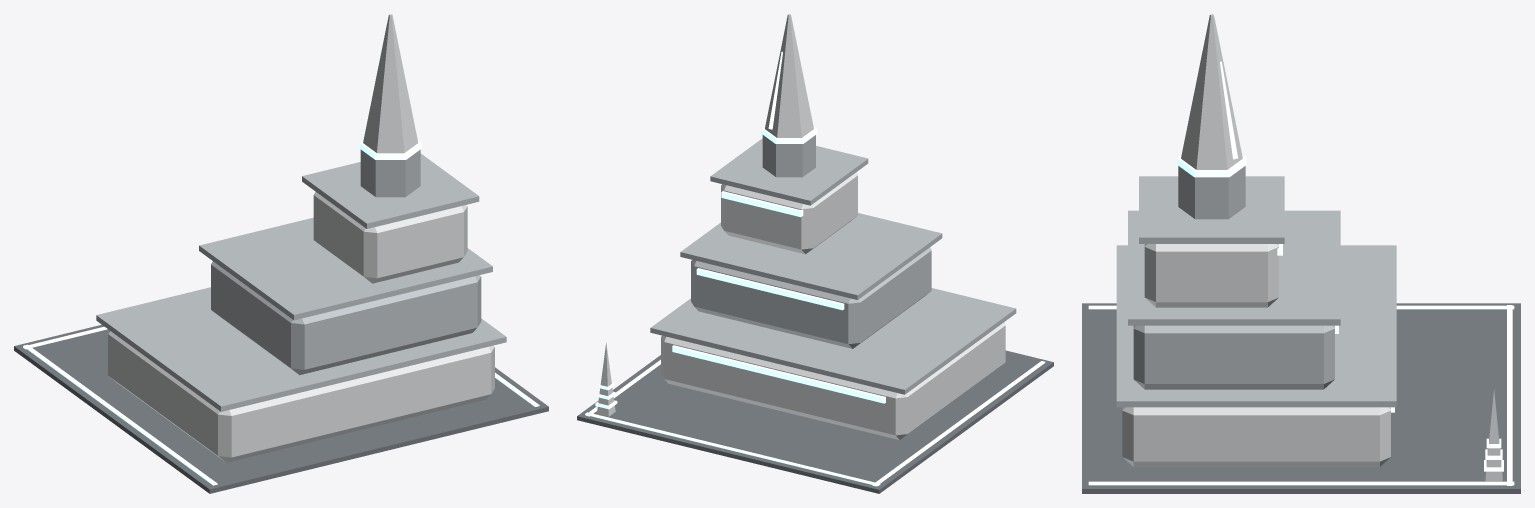
The model's file is zone_low_3_t3.glb.
The picture shows the model from 3 angles, left to right: view 1: azimuth 30°, elevation 25°; view 2: azimuth 150°, elevation 25°; view 3: azimuth 270°, elevation 25°; orthographic projection. The views are drawn at different scales.
Visible parts, largest first — view 1: zone_low_3_t3, detail; view 2: zone_low_3_t3, detail; view 3: zone_low_3_t3, detail.
Part boxes in pixels (<box>): zone_low_3_t3: <box>14,14,548,493</box>; detail: <box>23,326,539,485</box>; zone_low_3_t3: <box>577,14,1053,493</box>; detail: <box>585,343,1045,486</box>; zone_low_3_t3: <box>1082,14,1520,493</box>; detail: <box>1088,305,1514,485</box>.
Size of the model in its own units: 19.6 by 20.91 by 19.6.
